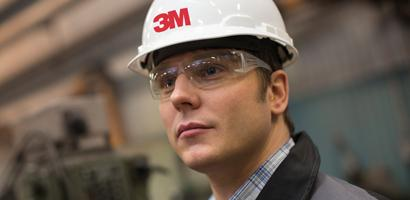helmet: (125, 1, 300, 75)
